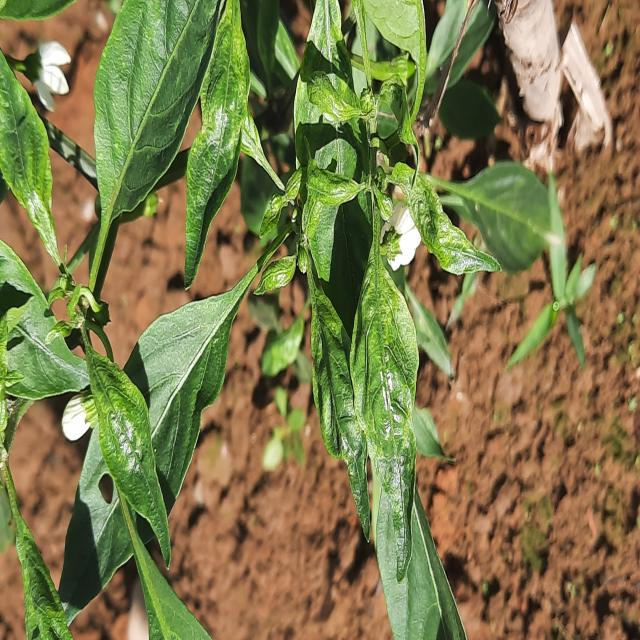thrips: (347, 225, 423, 583), (181, 0, 254, 292), (85, 351, 177, 556), (306, 289, 372, 543)
